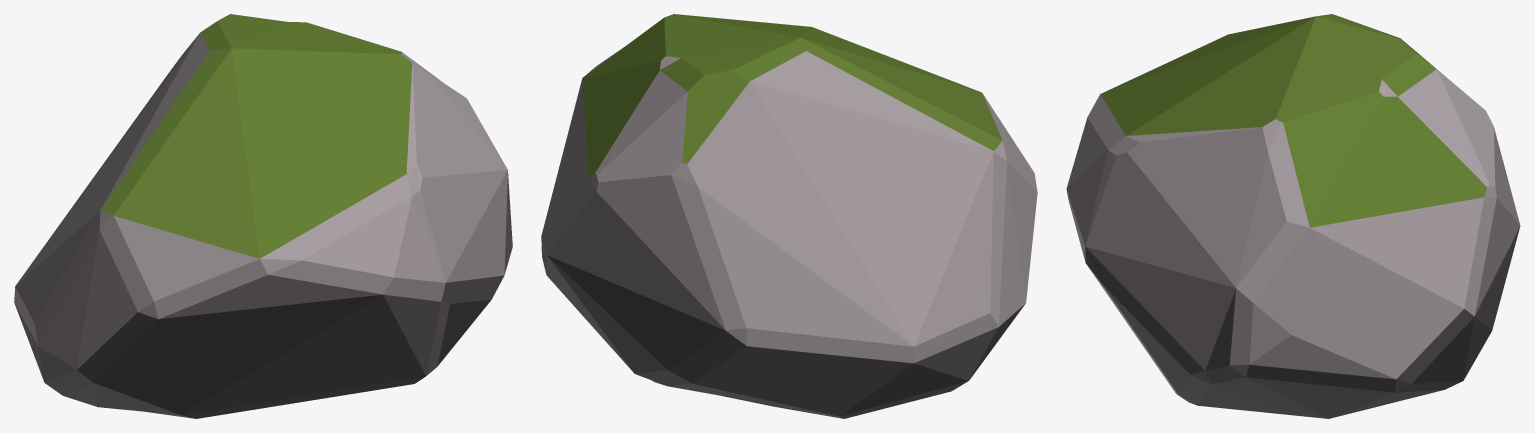
The model's file is shore_rock_a.glb.
The picture shows the model from 3 angles, left to right: view 1: azimuth 30°, elevation 25°; view 2: azimuth 150°, elevation 25°; view 3: azimuth 270°, elevation 25°; orthographic projection. The views are drawn at different scales.
Visible parts, largest first — view 1: stone_dry, moss_wet, stone_wet; view 2: stone_dry, stone_wet, moss_wet; view 3: stone_dry, moss_wet, stone_wet.
Boxes of the visible parts, bbox=[...] form: stone_dry: bbox=[14, 32, 507, 375]; moss_wet: bbox=[100, 14, 412, 258]; stone_wet: bbox=[14, 173, 512, 418]; stone_dry: bbox=[541, 49, 1037, 363]; stone_wet: bbox=[541, 237, 1024, 418]; moss_wet: bbox=[582, 14, 1002, 176]; stone_dry: bbox=[1066, 69, 1520, 393]; moss_wet: bbox=[1100, 14, 1486, 227]; stone_wet: bbox=[1085, 226, 1520, 418].
Size of the model in its own units: 1.55 by 1.09 by 1.35.
